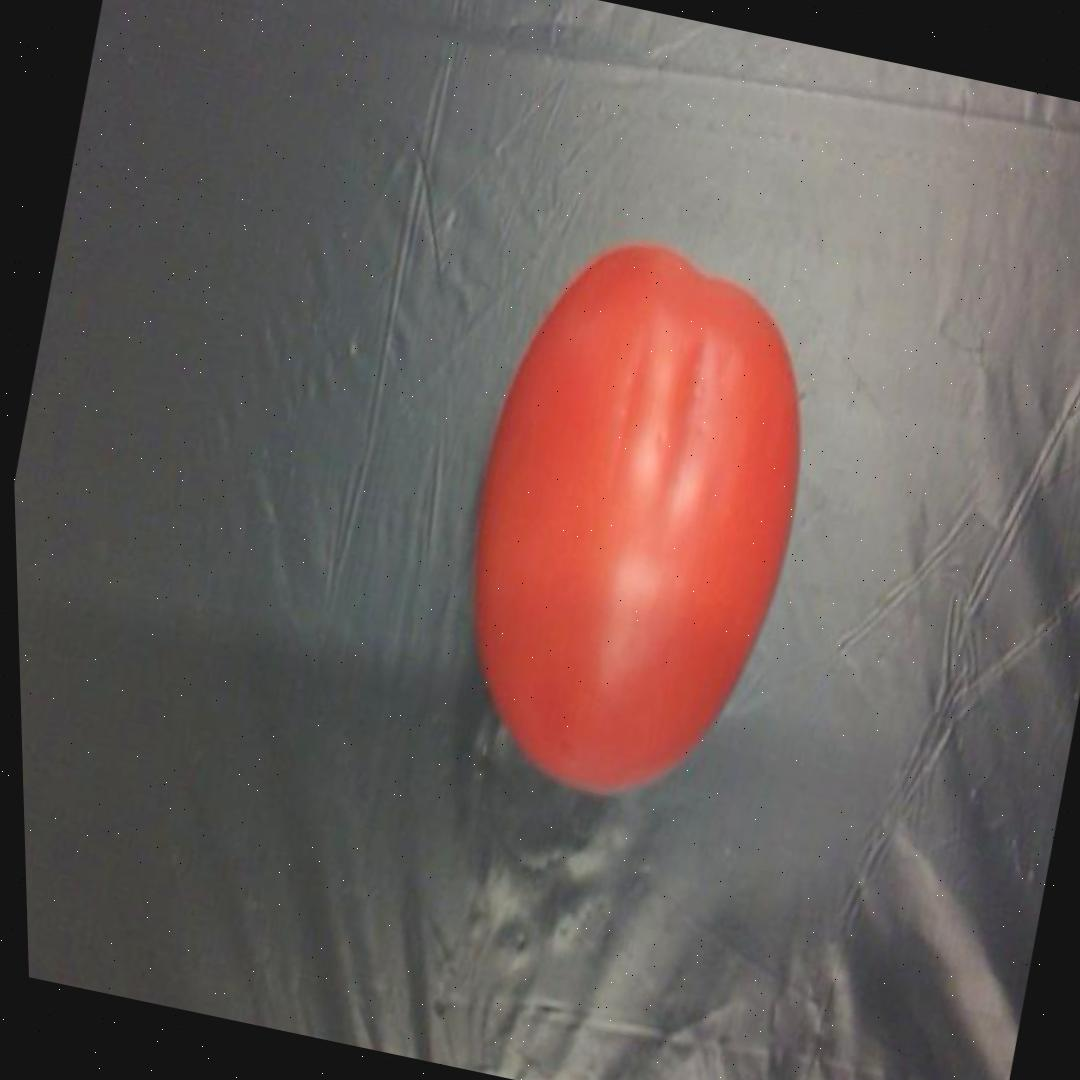matang: (420, 220, 854, 830)
